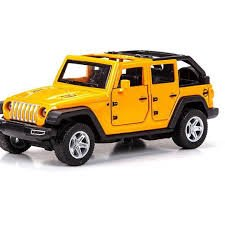mobil: (4, 48, 217, 170)
